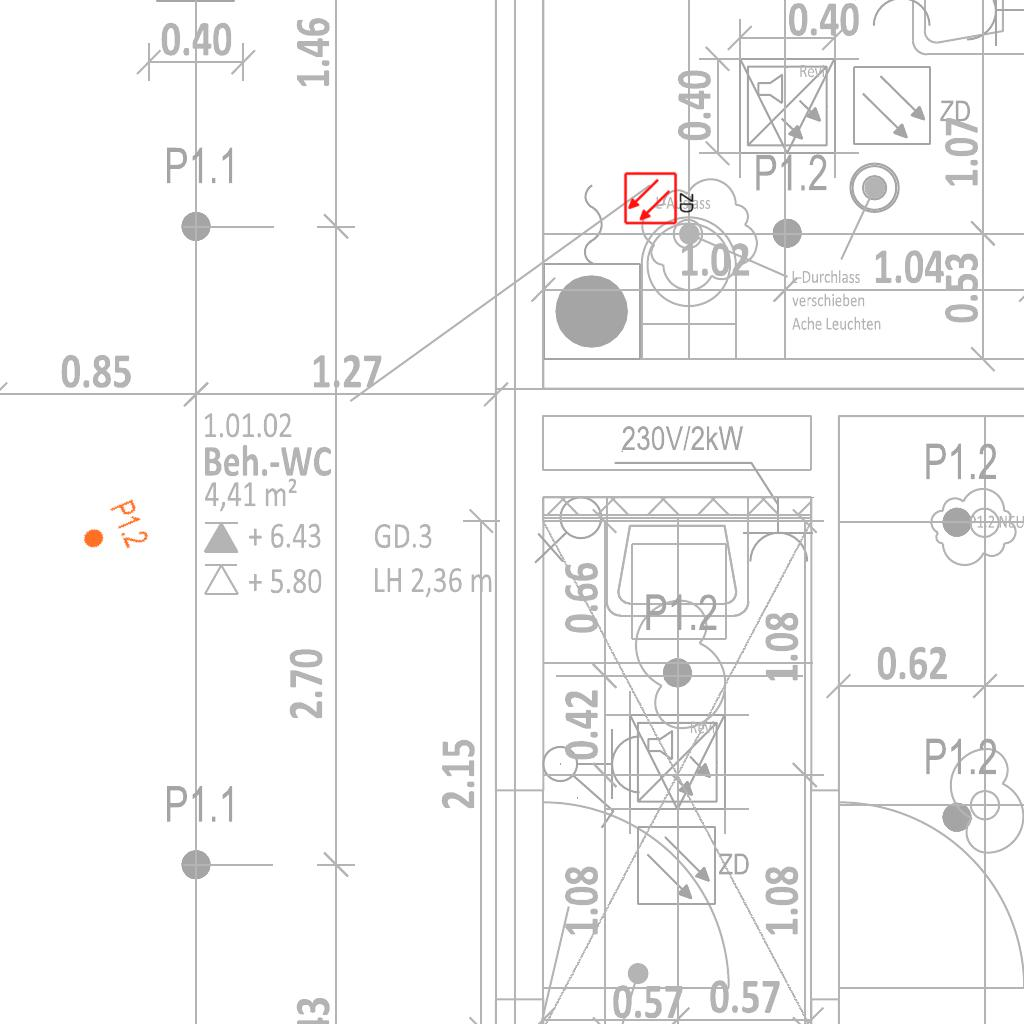Downlight_LED_Einbauleuchten_Flur: (74, 497, 152, 565)
ZD_Melder_in_Zwischendecke_mit_Revisionsoeffnung_mind_40_x_40_cm: (623, 169, 697, 226)
